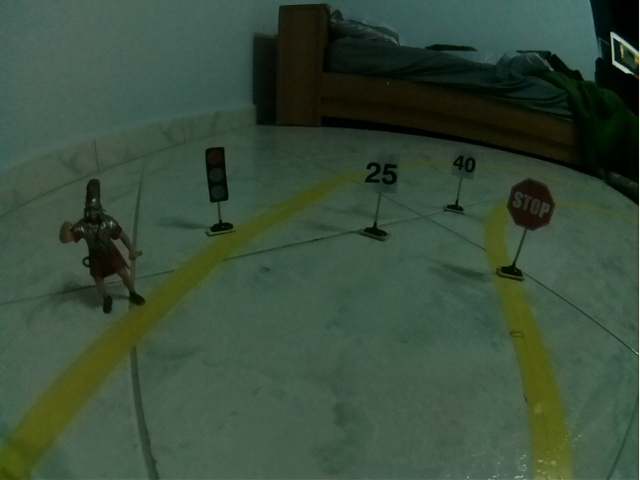Person: (58, 177, 146, 315)
Red Traffic Light: (203, 146, 229, 204)
Speed Limit 25: (363, 151, 400, 195)
Speed Limit 40: (451, 148, 477, 181)
Stop: (505, 178, 556, 232)
